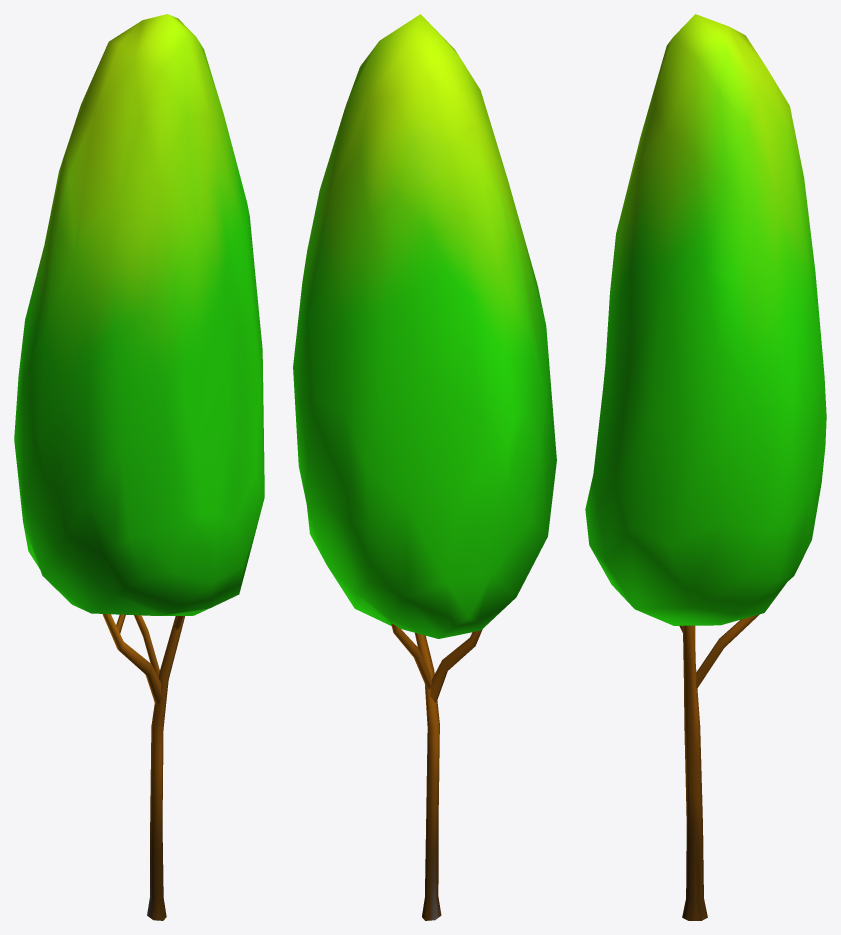
Rendered from TreeStyle3Blue_10.fbx.
3 renders of one model, left to right at view 1: azimuth 30°, elevation 25°; view 2: azimuth 150°, elevation 25°; view 3: azimuth 270°, elevation 25°, orthographic.
Parts seen in each view (by area): view 1: TreeStyle3_10; view 2: TreeStyle3_10; view 3: TreeStyle3_10.
Boxes of the visible parts, box(x1,y1,x2,y2) form: TreeStyle3_10: box(14, 14, 264, 920); TreeStyle3_10: box(293, 14, 556, 920); TreeStyle3_10: box(585, 14, 826, 920).
Bounding box in the file's own units: 385 × 1470 × 354.
